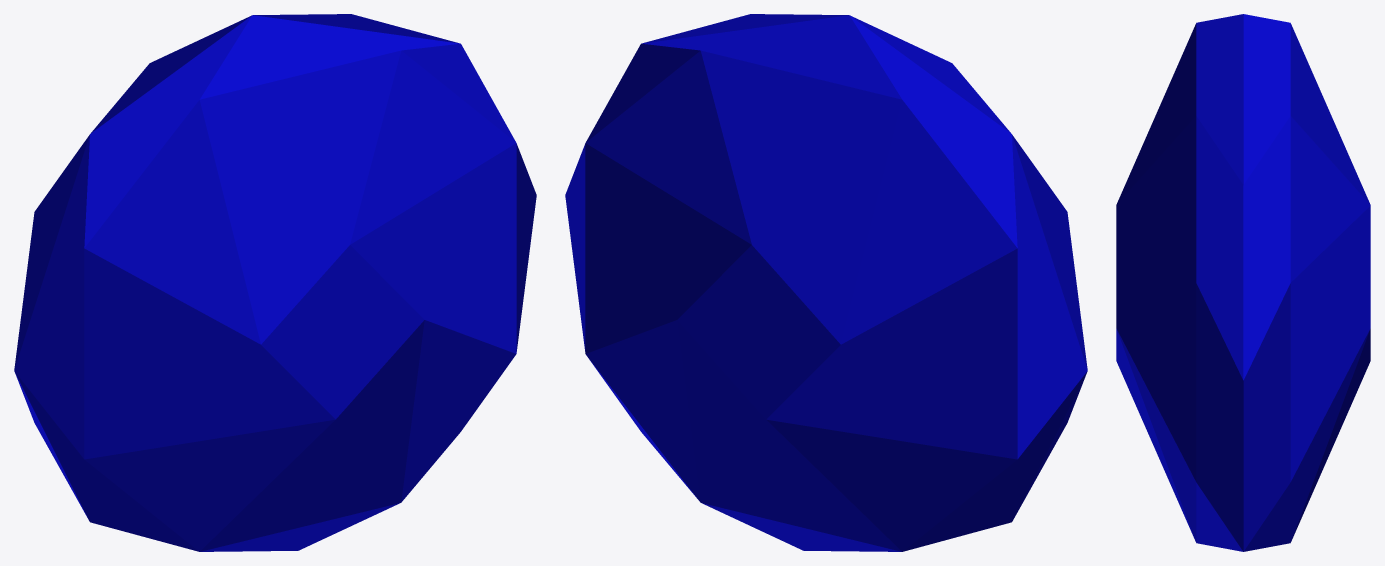
File: Bluemedal.obj
3 views of the same model, side by side, from view 1: azimuth 30°, elevation 25°; view 2: azimuth 150°, elevation 25°; view 3: azimuth 270°, elevation 25° (orthographic). The views are drawn at different scales.
Parts seen in each view (by area): view 1: Cube.001; view 2: Cube.001; view 3: Cube.001.
Boxes of the visible parts, bbox=[...] form: Cube.001: bbox=[14, 14, 536, 551]; Cube.001: bbox=[565, 14, 1087, 551]; Cube.001: bbox=[1116, 14, 1370, 551].
Bounding box in the file's own units: 2.42 × 2.42 × 1.08.
